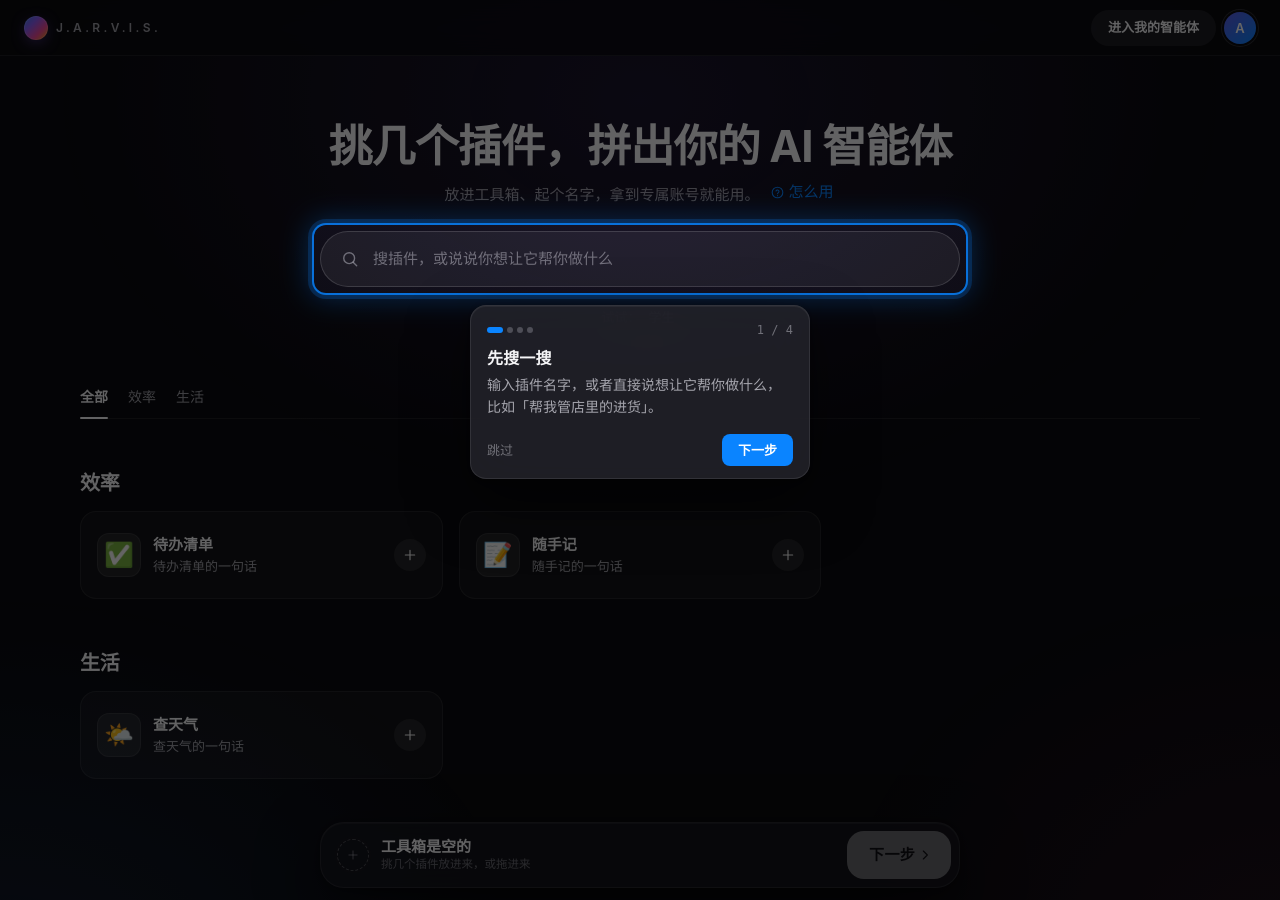
Test: 市场 › 已登录：头像菜单「新手引导」重看；看过没走接口
Expected: the element "待办清单" is shown, [80,510,443,598]
Press Escape
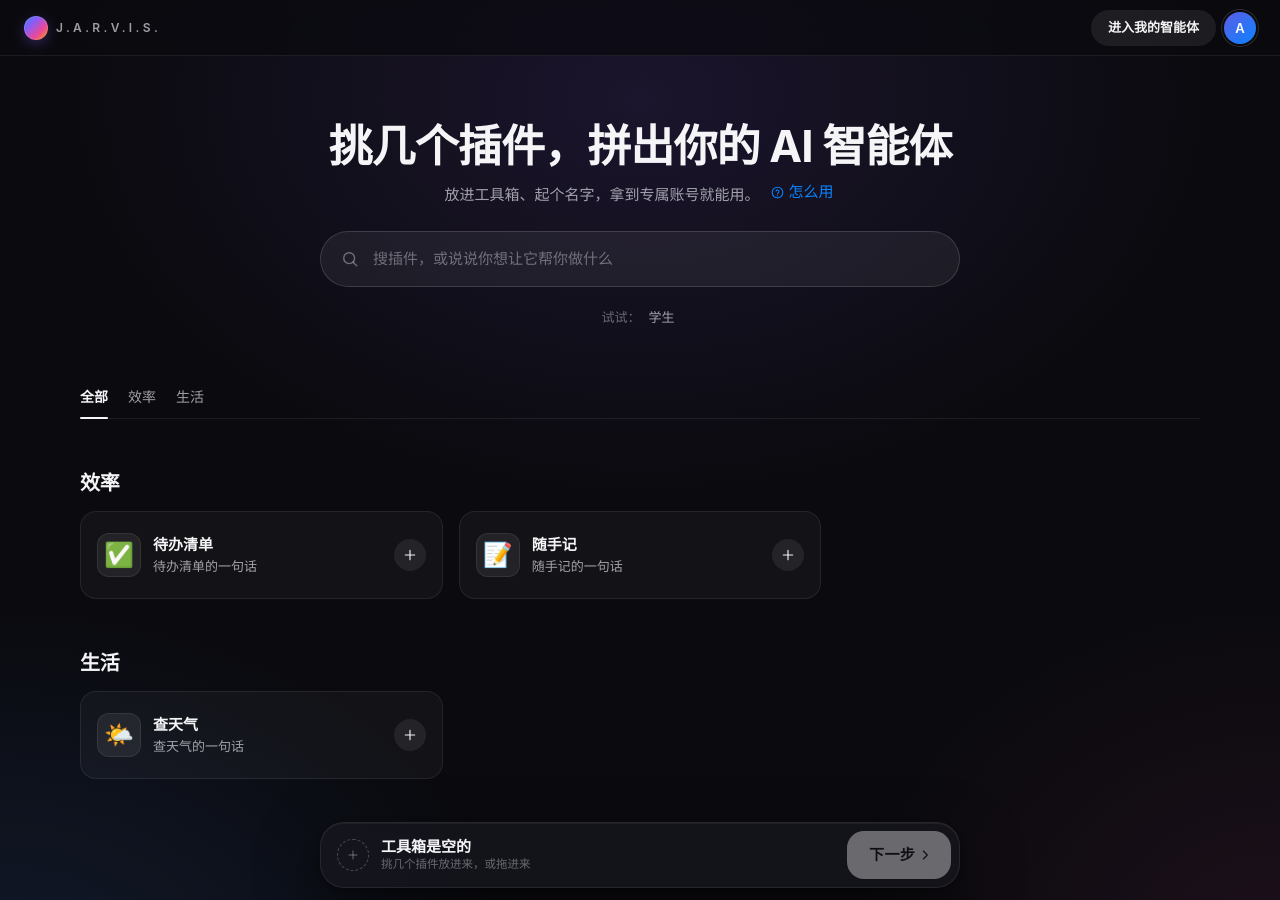
Click the button named "账号：amy" at (1240, 28), box [1224,12,1256,44]
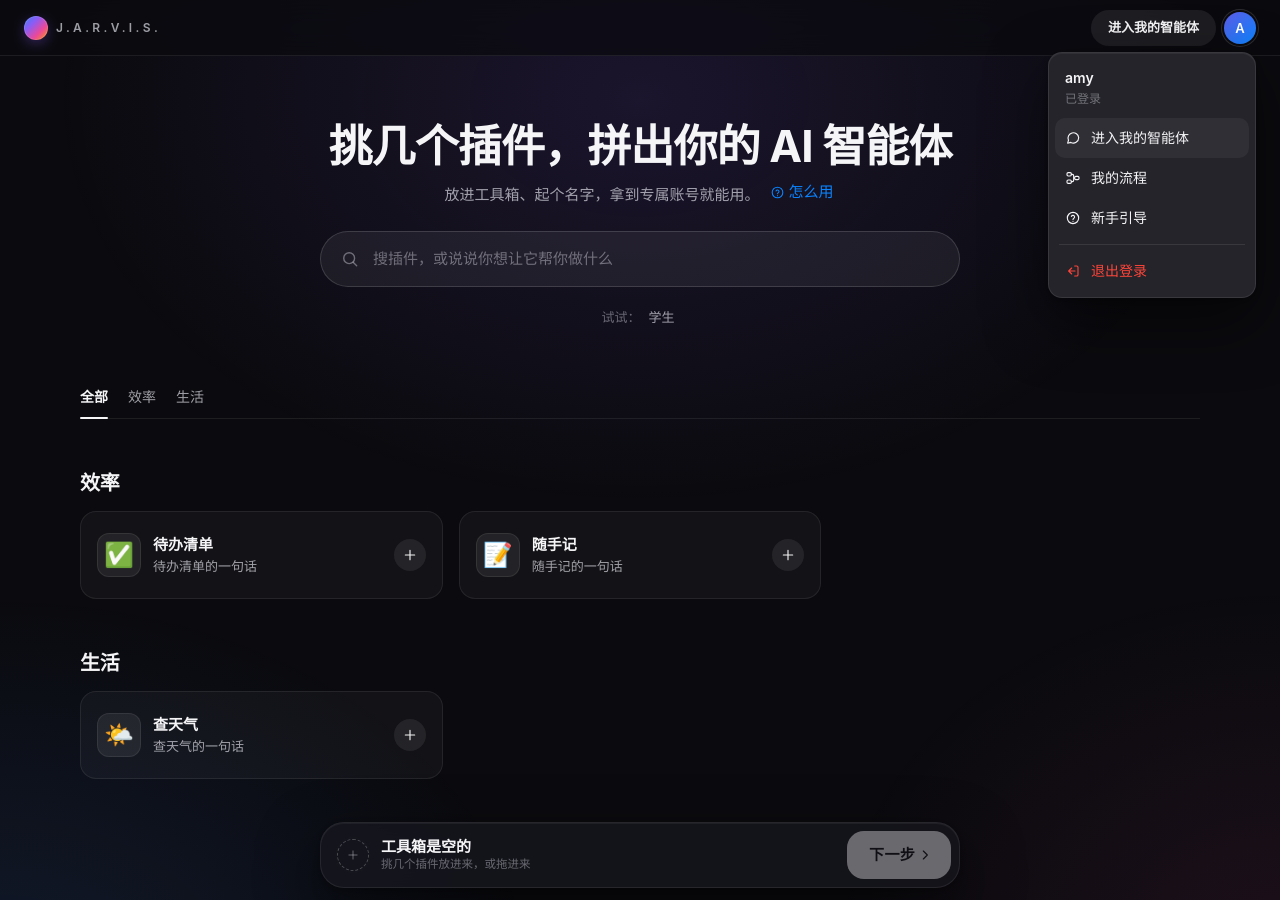
Click the menu item "新手引导" at (1152, 218), box [1055,198,1249,238]
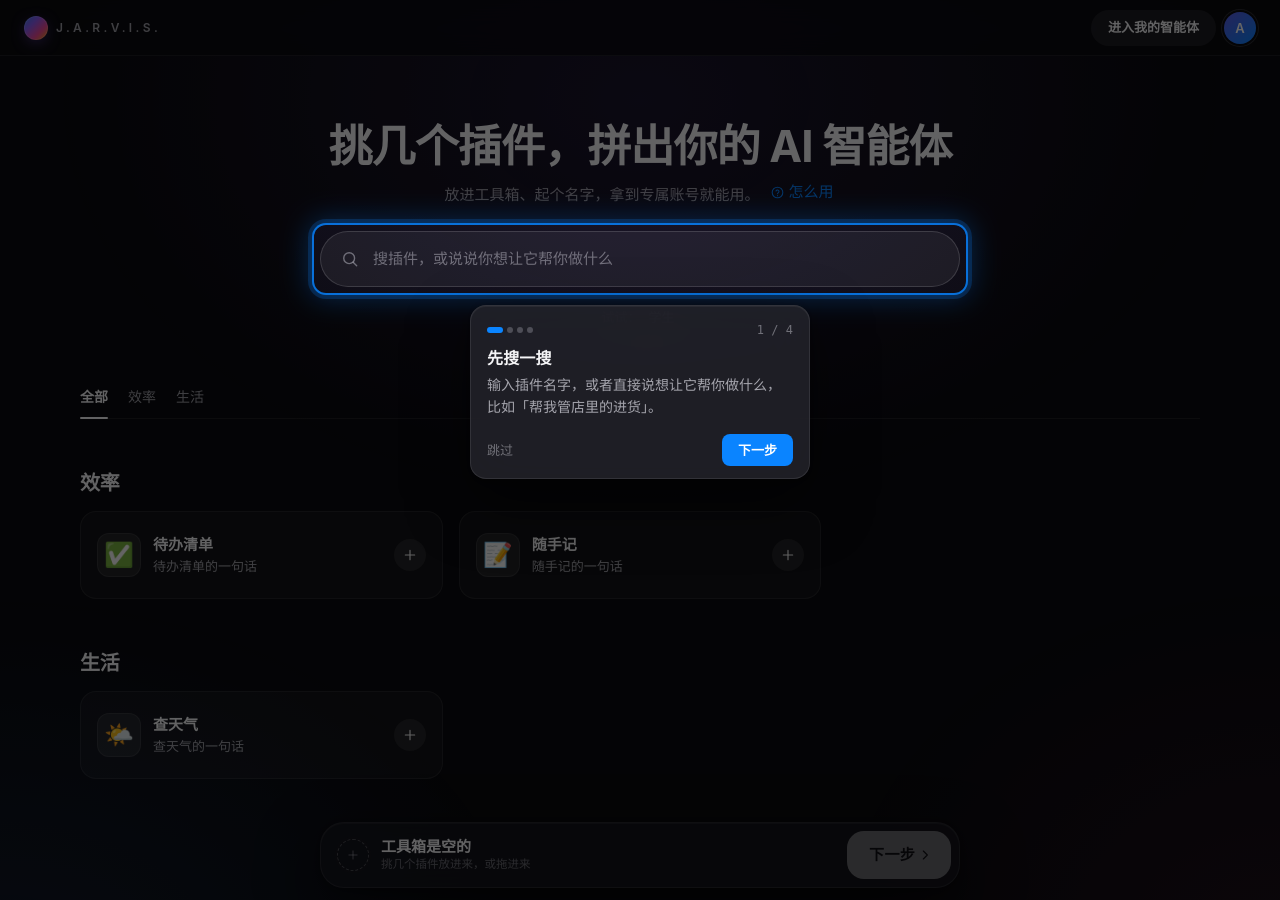
Now the heading with class "jv-tour-title" reads "先搜一搜", box [487,348,552,368]
